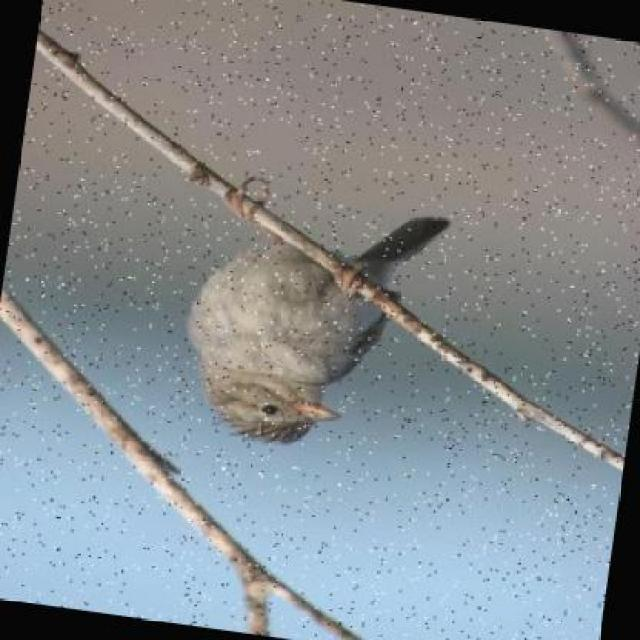Bird: (191, 204, 470, 434)
